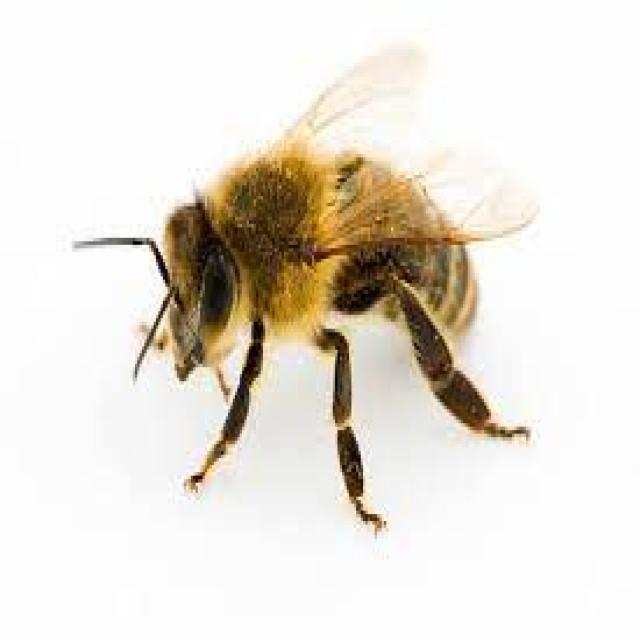Bees: (72, 53, 543, 539)
